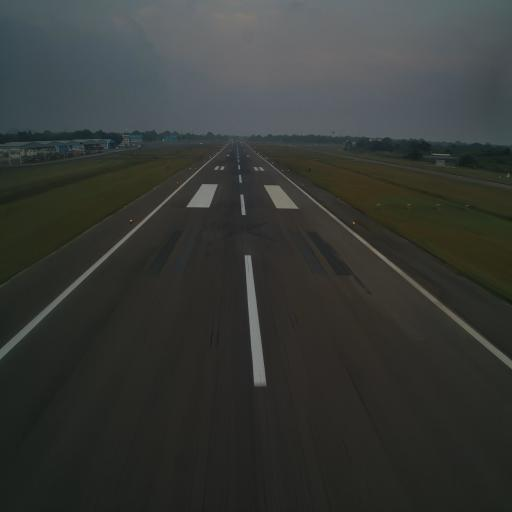on: (128, 216, 133, 225), (352, 220, 356, 226), (176, 180, 179, 186), (302, 182, 304, 186)
